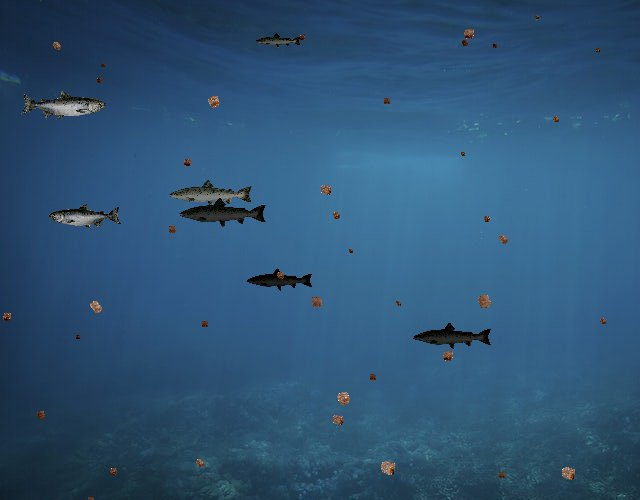Fish: (178, 196, 268, 229), (168, 178, 254, 209), (20, 90, 106, 121), (412, 321, 493, 350), (49, 203, 122, 230), (246, 268, 314, 292), (255, 32, 302, 49)
Pellet: (314, 178, 337, 201), (493, 229, 513, 249), (47, 37, 66, 56), (179, 154, 196, 171), (366, 370, 380, 384), (93, 75, 106, 88), (458, 148, 468, 158)
